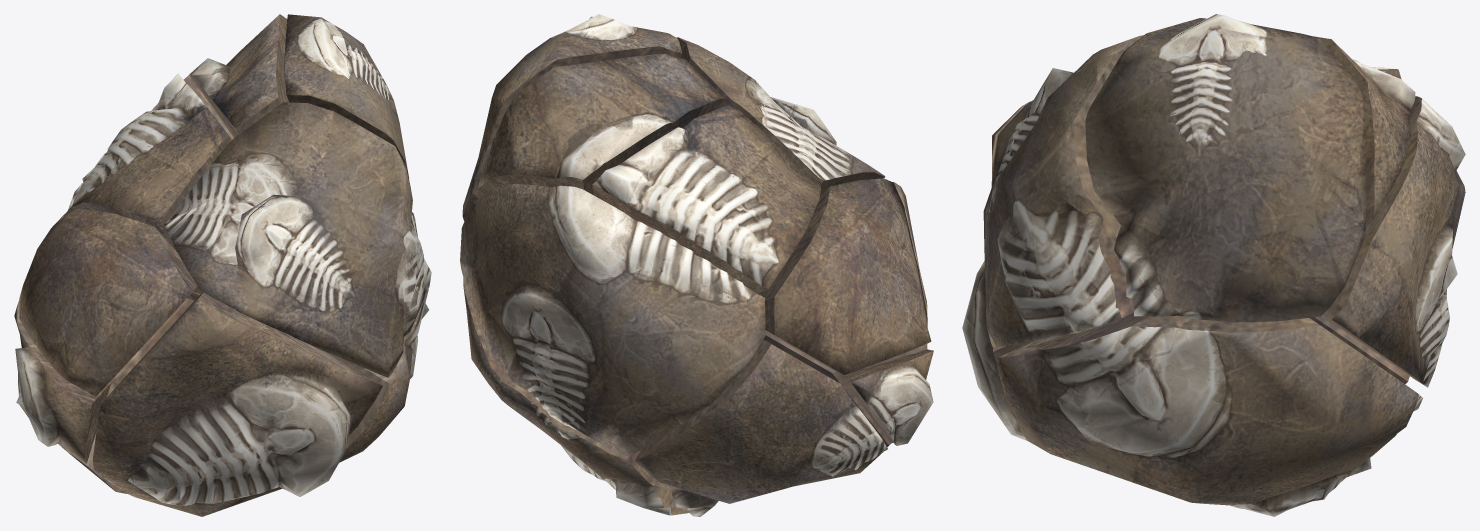
File: SM_FossilNode_4_Pieces.fbx
The picture shows the model from 3 angles, left to right: view 1: azimuth 30°, elevation 25°; view 2: azimuth 150°, elevation 25°; view 3: azimuth 270°, elevation 25°; orthographic projection. The views are drawn at different scales.
Parts seen in each view (by area): view 1: SM_FossilNode_4_Pieces_7, SM_FossilNode_4_Pieces_4, SM_FossilNode_4_Pieces_2, SM_FossilNode_4_Pieces_5, SM_FossilNode_4_Pieces_10, SM_FossilNode_4_Pieces_8, SM_FossilNode_4_Pieces_1, SM_FossilNode_4_Pieces_9, SM_FossilNode_4_Pieces_3, SM_FossilNode_4_Pieces_6; view 2: SM_FossilNode_4_Pieces_6, SM_FossilNode_4_Pieces_5, SM_FossilNode_4_Pieces_3, SM_FossilNode_4_Pieces_2, SM_FossilNode_4_Pieces_8, SM_FossilNode_4_Pieces_7, SM_FossilNode_4_Pieces_10, SM_FossilNode_4_Pieces_9, SM_FossilNode_4_Pieces_1, SM_FossilNode_4_Pieces_4; view 3: SM_FossilNode_4_Pieces_10, SM_FossilNode_4_Pieces_9, SM_FossilNode_4_Pieces_7, SM_FossilNode_4_Pieces_6, SM_FossilNode_4_Pieces_8, SM_FossilNode_4_Pieces_4, SM_FossilNode_4_Pieces_3.
Boxes of the visible parts, x1,y1,x2,y2 form: SM_FossilNode_4_Pieces_7: [164, 102, 431, 377]; SM_FossilNode_4_Pieces_4: [93, 292, 383, 516]; SM_FossilNode_4_Pieces_2: [19, 208, 197, 396]; SM_FossilNode_4_Pieces_5: [64, 73, 231, 294]; SM_FossilNode_4_Pieces_10: [284, 14, 409, 178]; SM_FossilNode_4_Pieces_8: [189, 14, 289, 137]; SM_FossilNode_4_Pieces_1: [15, 328, 111, 463]; SM_FossilNode_4_Pieces_9: [337, 289, 428, 462]; SM_FossilNode_4_Pieces_3: [14, 298, 193, 493]; SM_FossilNode_4_Pieces_6: [37, 75, 233, 300]; SM_FossilNode_4_Pieces_6: [460, 183, 765, 456]; SM_FossilNode_4_Pieces_5: [592, 104, 821, 293]; SM_FossilNode_4_Pieces_3: [635, 339, 887, 516]; SM_FossilNode_4_Pieces_2: [757, 178, 931, 375]; SM_FossilNode_4_Pieces_8: [477, 54, 724, 194]; SM_FossilNode_4_Pieces_7: [676, 37, 885, 195]; SM_FossilNode_4_Pieces_10: [462, 14, 682, 221]; SM_FossilNode_4_Pieces_9: [463, 278, 688, 515]; SM_FossilNode_4_Pieces_1: [839, 349, 933, 445]; SM_FossilNode_4_Pieces_4: [763, 182, 927, 447]; SM_FossilNode_4_Pieces_10: [1085, 14, 1365, 322]; SM_FossilNode_4_Pieces_9: [997, 312, 1423, 516]; SM_FossilNode_4_Pieces_7: [983, 35, 1143, 347]; SM_FossilNode_4_Pieces_6: [1322, 96, 1465, 387]; SM_FossilNode_4_Pieces_8: [1314, 36, 1415, 225]; SM_FossilNode_4_Pieces_4: [962, 101, 1035, 441]; SM_FossilNode_4_Pieces_3: [1310, 316, 1409, 384].
Size of the model in its own units: 0.8881 by 0.9146 by 0.7836.
